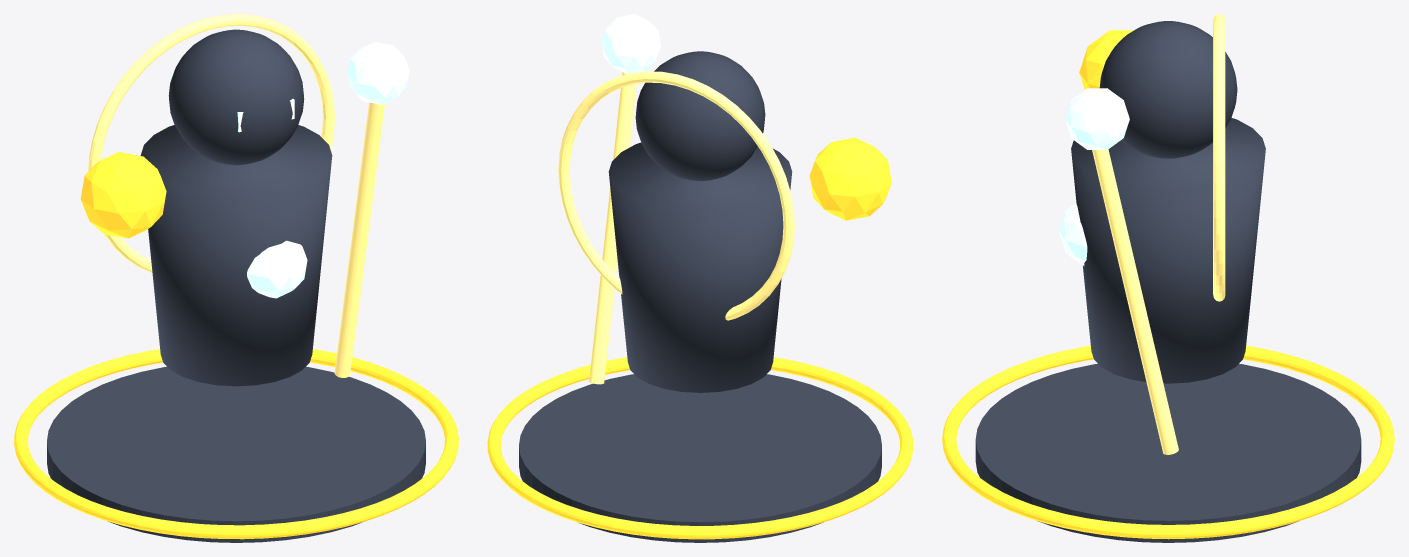
The model's file is nexus.glb.
The picture shows the model from 3 angles, left to right: view 1: azimuth 30°, elevation 25°; view 2: azimuth 150°, elevation 25°; view 3: azimuth 270°, elevation 25°; orthographic projection. The views are drawn at different scales.
Parts seen in each view (by area): view 1: AbilityPedestal, AgentTorso, AgentHead, AbilityAuraRing, Pet_NEXUS, SovereignHalo, SignatureWeapon, WeaponApex, AgentCore; view 2: AbilityPedestal, AgentTorso, AgentHead, AbilityAuraRing, SovereignHalo, Pet_NEXUS, SignatureWeapon, WeaponApex; view 3: AbilityPedestal, AgentTorso, AgentHead, AbilityAuraRing, SignatureWeapon, SovereignHalo, WeaponApex, Pet_NEXUS, AgentCore.
Boxes of the visible parts, x1,y1,x2,y2 form: AbilityPedestal: (47, 366, 425, 542); AgentTorso: (140, 125, 332, 386); AgentHead: (168, 29, 304, 165); AbilityAuraRing: (14, 349, 458, 539); Pet_NEXUS: (80, 152, 166, 238); SovereignHalo: (88, 14, 334, 272); SignatureWeapon: (334, 102, 384, 377); WeaponApex: (347, 42, 409, 104); AgentCore: (247, 240, 307, 298); AbilityPedestal: (519, 374, 881, 542); AgentTorso: (608, 142, 792, 392); AgentHead: (635, 51, 765, 181); AbilityAuraRing: (487, 357, 913, 539); SovereignHalo: (558, 71, 794, 320); Pet_NEXUS: (809, 137, 891, 220); SignatureWeapon: (589, 72, 636, 384); WeaponApex: (601, 14, 660, 74); AbilityPedestal: (975, 363, 1361, 542); AgentTorso: (1071, 118, 1265, 383); AgentHead: (1099, 21, 1237, 158); AbilityAuraRing: (942, 345, 1394, 539); SignatureWeapon: (1092, 149, 1178, 454); SovereignHalo: (1213, 14, 1225, 301); WeaponApex: (1065, 88, 1129, 149); Pet_NEXUS: (1079, 30, 1133, 89); AgentCore: (1059, 203, 1087, 265).
Size of the model in its own units: 2.23 by 2.36 by 2.23.
